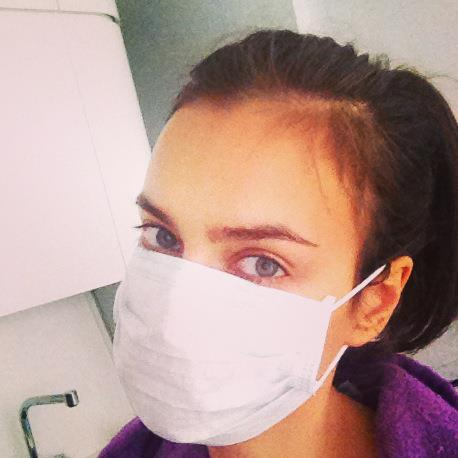face_mask: (120, 109, 343, 444)
